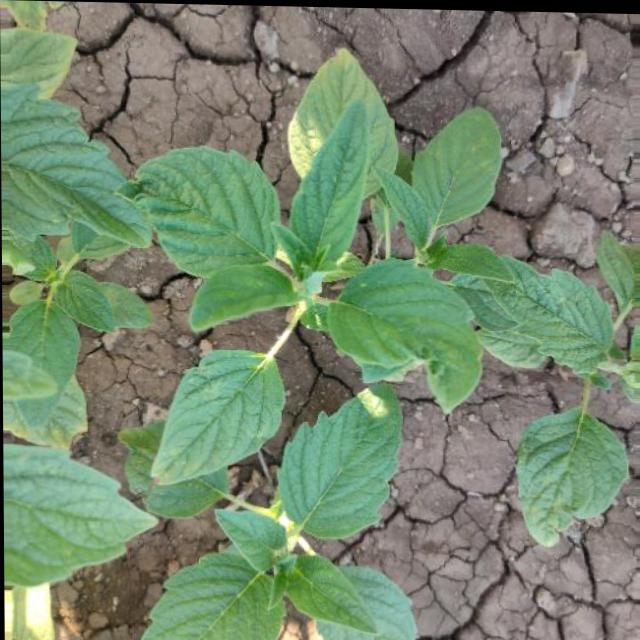crop: (123, 75, 529, 471), (2, 46, 156, 599), (107, 415, 473, 640), (481, 220, 640, 550)
